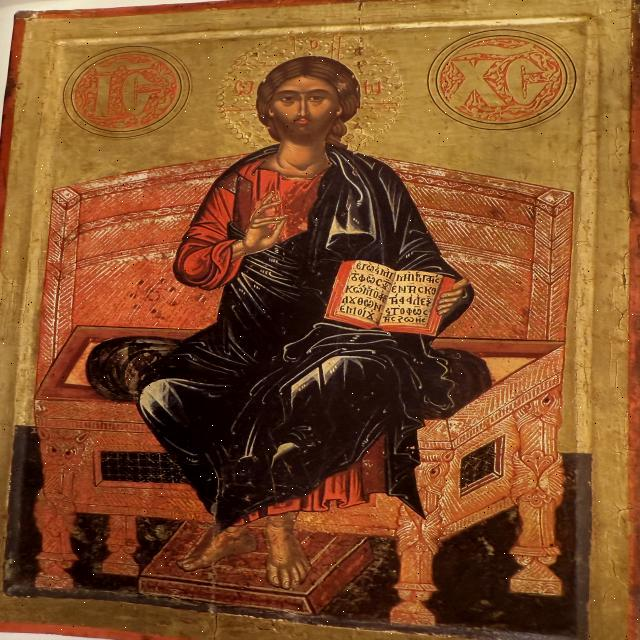aura: (219, 30, 411, 155)
book: (320, 250, 459, 339)
christ: (33, 18, 569, 614)
christ_hand: (207, 187, 291, 269)
